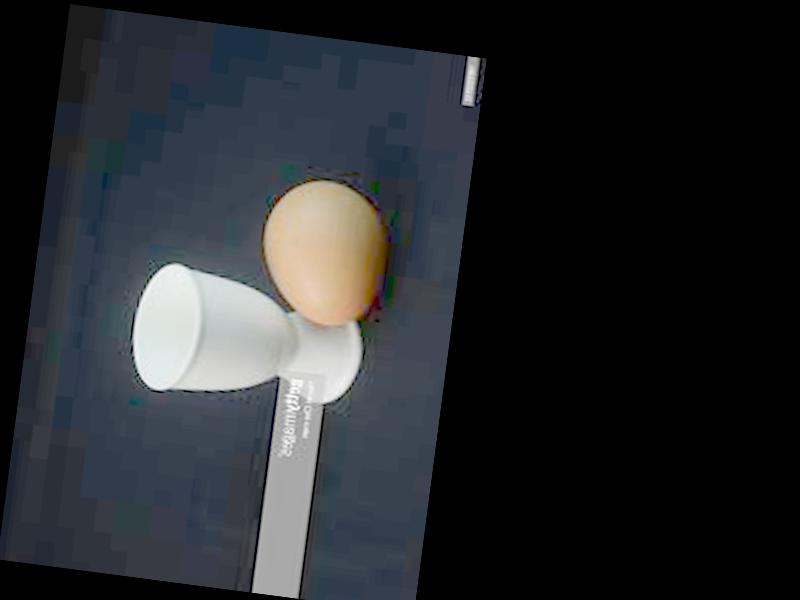Eggs: (254, 176, 386, 331)
